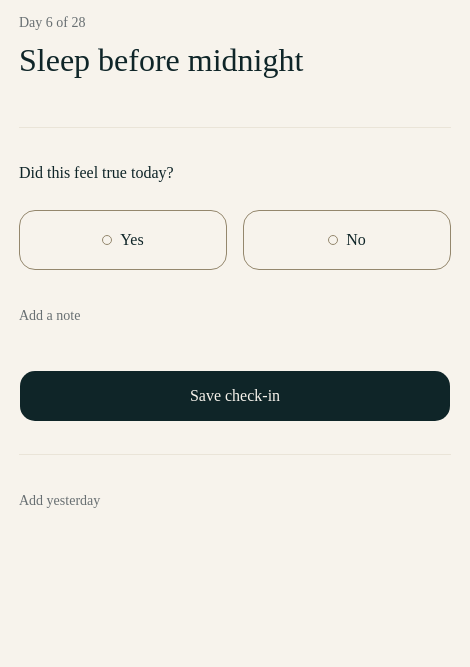
it: TodayDashboard › during the season › saves an optional note alongside the answer
Click the radio button labelled "Yes": (123, 240) [19,210,227,270]
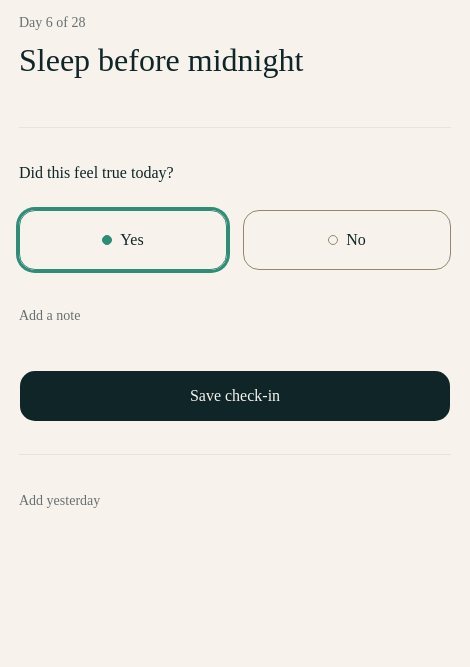
Click the button "Add a note": (50, 316) [19,294,80,338]
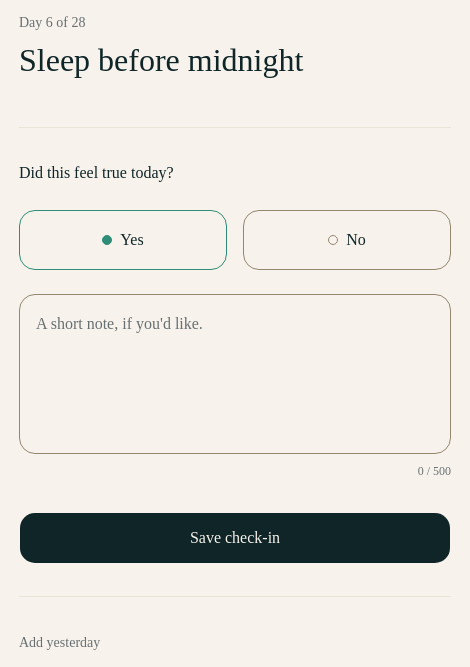
In the text box with placeholder "A short note, if you'd like.": (235, 374) [19,294,451,454], type "Slept early."
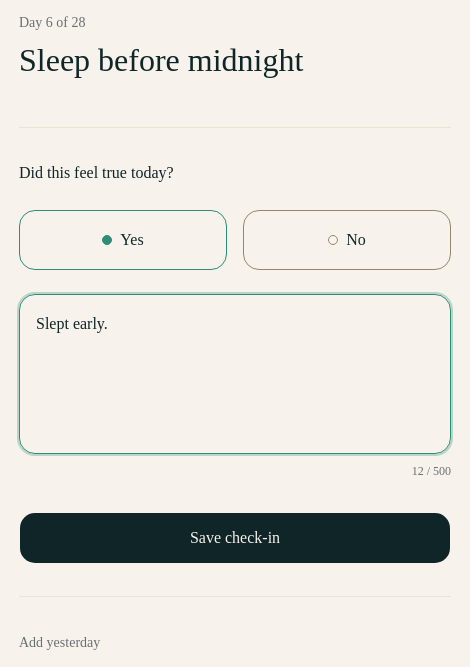
Click the button "Save check-in": (235, 538) [19,512,451,564]
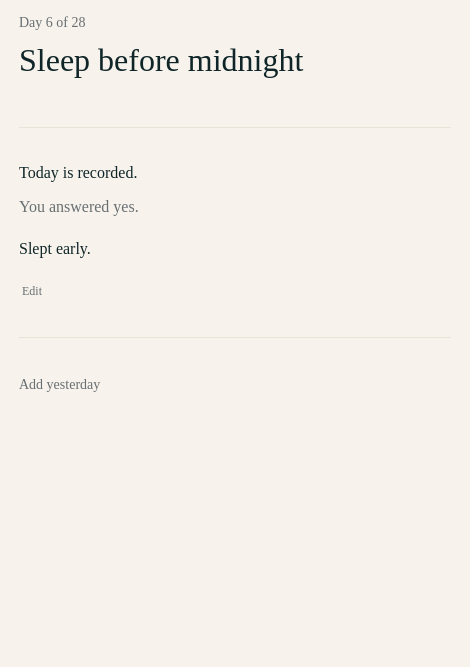
Expected: the text "Slept early." is shown, [19,240,91,257]
